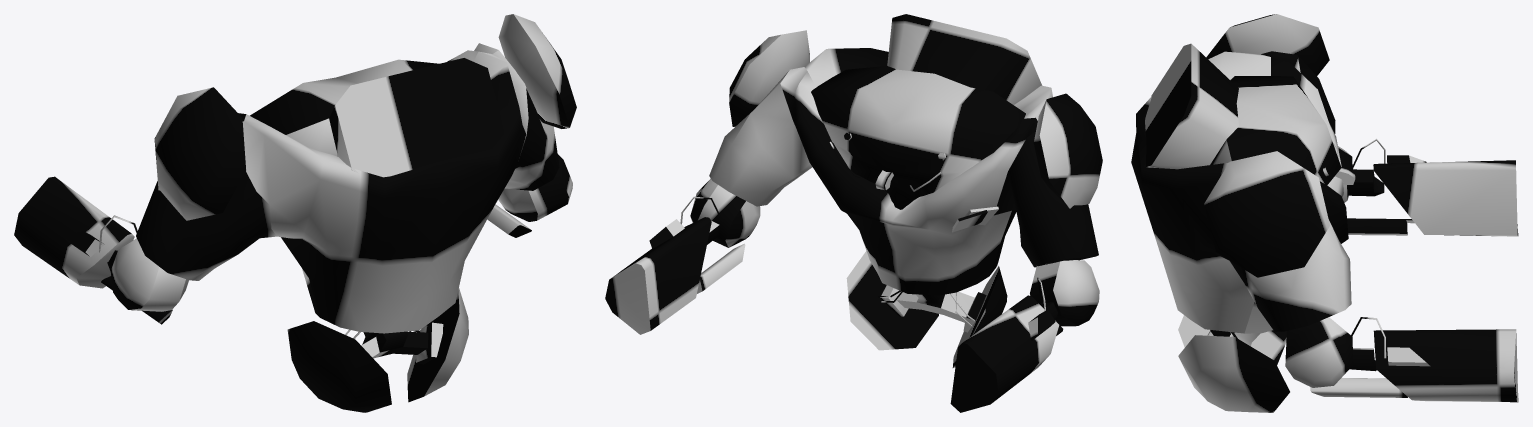
Rendered from referee.obj.
3 renders of one model, left to right at view 1: azimuth 30°, elevation 25°; view 2: azimuth 150°, elevation 25°; view 3: azimuth 270°, elevation 25°, orthographic. The views are drawn at different scales.
Visible parts, largest first — view 1: referee; view 2: referee; view 3: referee.
Boxes of the visible parts, left/top/right/bottom form: referee: left=14, top=14, right=576, bottom=412; referee: left=605, top=14, right=1102, bottom=412; referee: left=1131, top=14, right=1518, bottom=412.
Bounding box in the file's own units: 204 × 154 × 163.
1 material, 1 textured.
